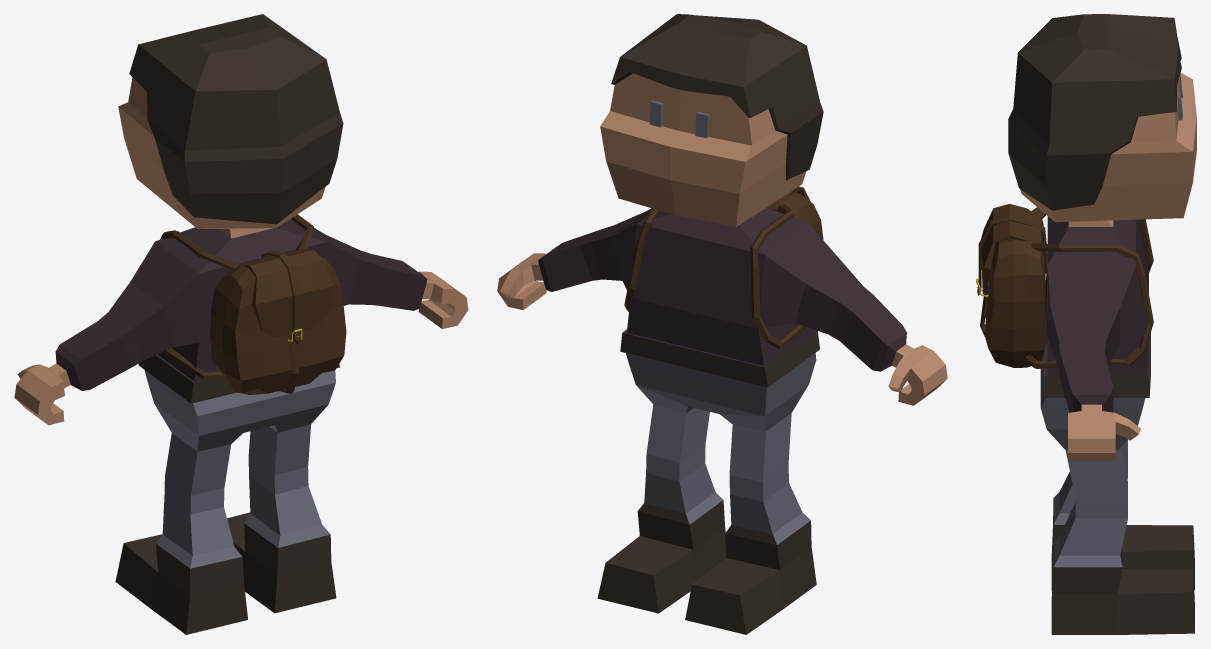
Rendered from runnerman 1.fbx.
The picture shows the model from 3 angles, left to right: view 1: azimuth 30°, elevation 25°; view 2: azimuth 150°, elevation 25°; view 3: azimuth 270°, elevation 25°; orthographic projection.
Visible parts, largest first — view 1: man; view 2: man; view 3: man.
Boxes of the visible parts, bbox=[...] form: man: bbox=[14, 14, 468, 634]; man: bbox=[497, 14, 947, 634]; man: bbox=[976, 14, 1196, 634].
Size of the model in its own units: 135 by 167 by 59.05.
